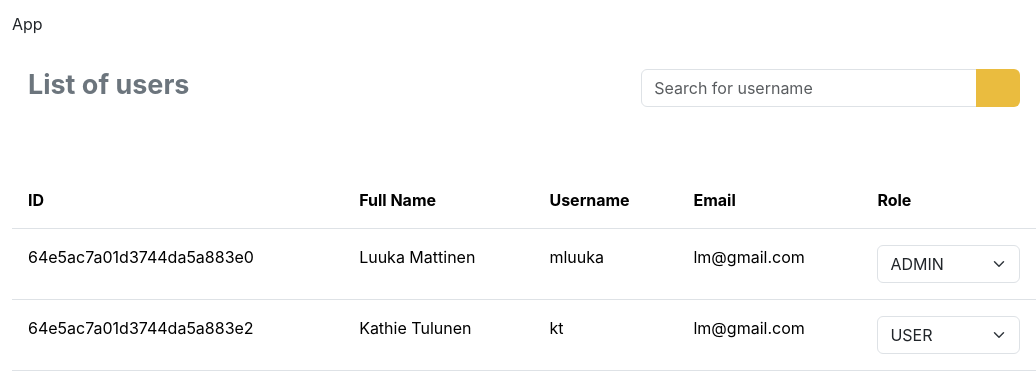
Test case: <UsersManagement /> › when logged in user is admin › searching for username › when username is not available in the database › shows the correct content
The width and height of the screenshot is (1036, 388).
Step 1. Type "test" into the field with placeholder "Search for username" → [809, 88], box [641,69,977,107]
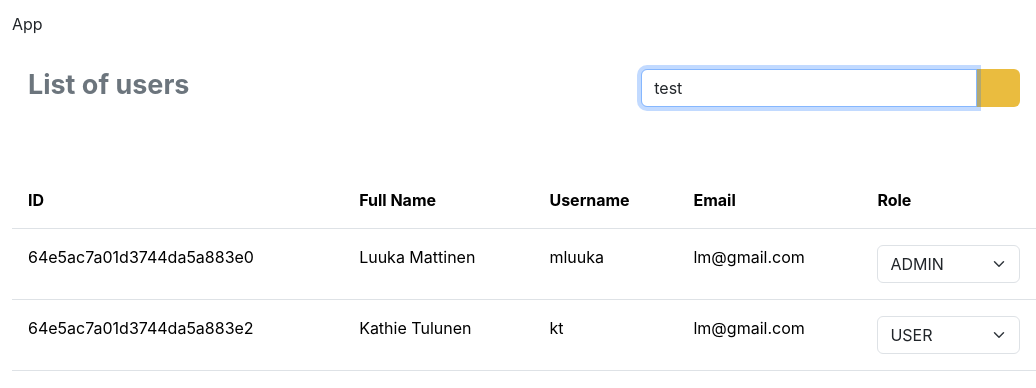
Step 2. Click the button with test id "searchUserNameBtn" → [998, 88], box [976,69,1020,107]
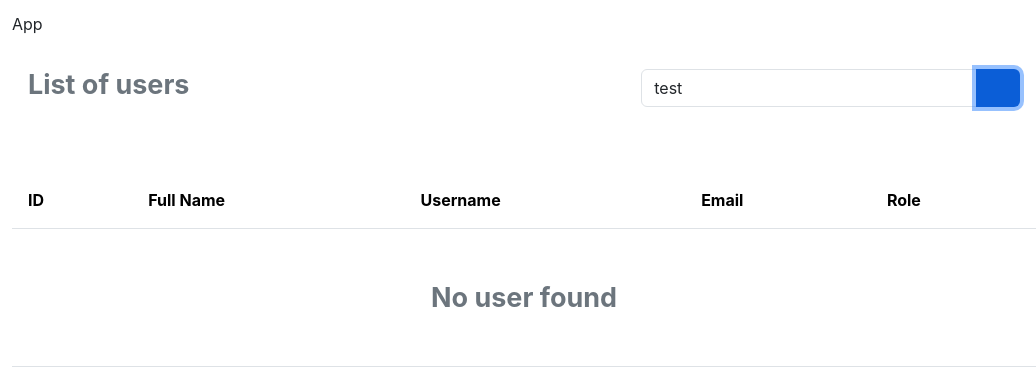
Expected: the text "No user found" is shown, [12,229,1035,366]
